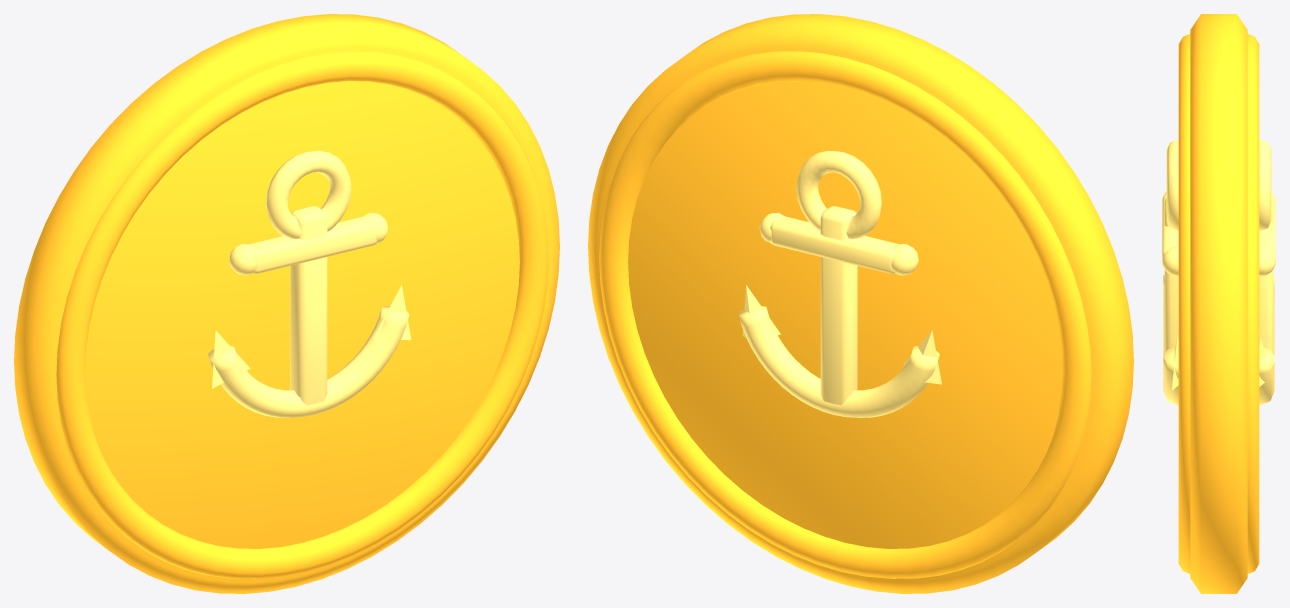
File: Gold_Coin.fbx
3 renders of one model, left to right at view 1: azimuth 30°, elevation 25°; view 2: azimuth 150°, elevation 25°; view 3: azimuth 270°, elevation 25°, orthographic. The views are drawn at different scales.
Parts seen in each view (by area): view 1: Coin_Disc, Coin_Rim_Front, Anchor_Front_Arms, Anchor_Front_Shank, Anchor_Front_Ring, Anchor_Front_Stock; view 2: Coin_Disc, Coin_Rim_Back, Anchor_Back_Arms, Anchor_Back_Shank, Anchor_Back_Ring, Anchor_Back_Stock; view 3: Coin_Disc, Coin_Rim_Back, Coin_Rim_Front, Anchor_Front_Shank, Anchor_Back_Shank, Anchor_Back_Ring, Anchor_Front_Ring, Anchor_Back_Arms, Anchor_Front_Arms, Anchor_Back_Stock, Anchor_Front_Stock, Anchor_Back_Stock_Ball.001 (+2 smaller).
Part boxes in pixels (<box>): Coin_Disc: <box>14,14,559,593</box>; Coin_Rim_Front: <box>56,51,548,578</box>; Anchor_Front_Arms: <box>208,306,409,417</box>; Anchor_Front_Shank: <box>290,206,327,405</box>; Anchor_Front_Ring: <box>266,150,351,238</box>; Anchor_Front_Stock: <box>249,216,377,273</box>; Coin_Disc: <box>588,14,1133,593</box>; Coin_Rim_Back: <box>599,51,1091,578</box>; Anchor_Back_Arms: <box>738,306,939,417</box>; Anchor_Back_Shank: <box>820,206,857,405</box>; Anchor_Back_Ring: <box>796,150,881,238</box>; Anchor_Back_Stock: <box>770,216,898,273</box>; Coin_Disc: <box>1190,14,1247,593</box>; Coin_Rim_Back: <box>1247,34,1259,573</box>; Coin_Rim_Front: <box>1178,34,1190,573</box>; Anchor_Front_Shank: <box>1164,198,1178,353</box>; Anchor_Back_Shank: <box>1259,198,1273,353</box>; Anchor_Back_Ring: <box>1259,140,1271,230</box>; Anchor_Front_Ring: <box>1166,140,1178,230</box>; Anchor_Back_Arms: <box>1259,275,1274,405</box>; Anchor_Front_Arms: <box>1163,275,1178,405</box>; Anchor_Back_Stock: <box>1259,193,1275,266</box>; Anchor_Front_Stock: <box>1162,193,1178,266</box>; Anchor_Back_Stock_Ball.001: <box>1259,246,1275,276</box>.
Bounding box in the file's own units: 0.91 × 0.91 × 0.178.
